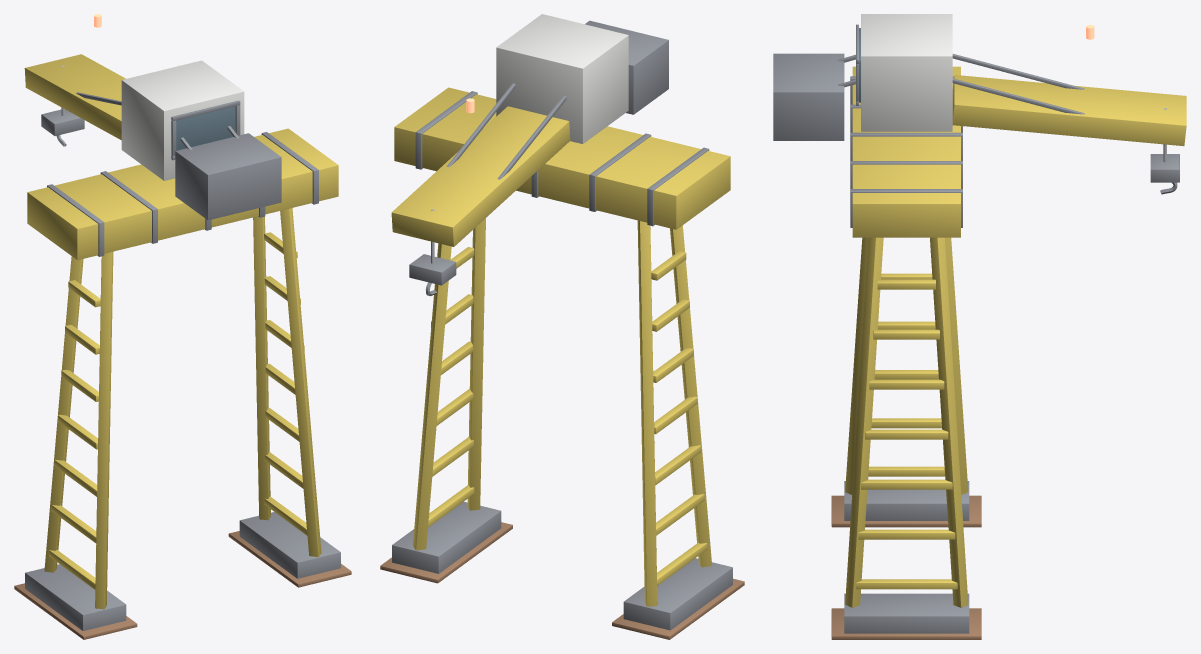
Rendered from th45_hafenkran.glb.
3 renders of one model, left to right at view 1: azimuth 30°, elevation 25°; view 2: azimuth 150°, elevation 25°; view 3: azimuth 270°, elevation 25°, orthographic. The views are drawn at different scales.
Visible parts, largest first — view 1: Cube.022, Cube.031, Cube.037, Cube.028, Cube.009, Cube, Cube.010, Cube.018, Cube.020, Cube.001, Cube.032, Cube.021 (+11 smaller); view 2: Cube.022, Cube.031, Cube.028, Cube.001, Cube.018, Cube.020, Cube.010, Cube, Cube.009, Cube.037, Cube.021, Cube.019 (+13 smaller); view 3: Cube.028, Cube.022, Cube.031, Cube.037, Cube.009, Cube.010, Cube.020, Cube.018, Cube, Cube.001, Cube.021, Cube.019 (+15 smaller).
Boxes of the visible parts, left/top/right/bottom form: Cube.022: left=27, top=128, right=338, bottom=260; Cube.031: left=121, top=60, right=244, bottom=180; Cube.037: left=175, top=133, right=281, bottom=220; Cube.028: left=24, top=54, right=125, bottom=140; Cube.009: left=280, top=208, right=321, bottom=556; Cube: left=95, top=251, right=113, bottom=609; Cube.010: left=253, top=216, right=270, bottom=520; Cube.018: left=25, top=564, right=126, bottom=630; Cube.020: left=239, top=512, right=340, bottom=578; Cube.001: left=44, top=256, right=83, bottom=572; Cube.032: left=176, top=106, right=235, bottom=150; Cube.021: left=228, top=531, right=351, bottom=587; Cube.022: left=394, top=87, right=730, bottom=229; Cube.031: left=496, top=14, right=628, bottom=143; Cube.028: left=391, top=106, right=570, bottom=246; Cube.001: left=637, top=220, right=657, bottom=606; Cube.018: left=623, top=558, right=732, bottom=630; Cube.020: left=392, top=501, right=501, bottom=573; Cube.010: left=413, top=243, right=451, bottom=550; Cube: left=670, top=225, right=711, bottom=567; Cube.009: left=467, top=218, right=485, bottom=510; Cube.037: left=585, top=20, right=668, bottom=114; Cube.021: left=380, top=522, right=512, bottom=583; Cube.019: left=612, top=578, right=744, bottom=639; Cube.028: left=952, top=75, right=1186, bottom=146; Cube.022: left=852, top=66, right=960, bottom=237; Cube.031: left=861, top=14, right=952, bottom=131; Cube.037: left=773, top=53, right=844, bottom=140; Cube.009: left=845, top=237, right=883, bottom=607; Cube.010: left=930, top=237, right=968, bottom=607; Cube.020: left=844, top=593, right=969, bottom=633; Cube.018: left=844, top=481, right=969, bottom=520; Cube: left=845, top=237, right=868, bottom=494; Cube.001: left=945, top=237, right=968, bottom=494; Cube.021: left=831, top=608, right=981, bottom=639; Cube.019: left=831, top=495, right=981, bottom=527.
Size of the model in its own units: 8 by 14.37 by 9.91.
